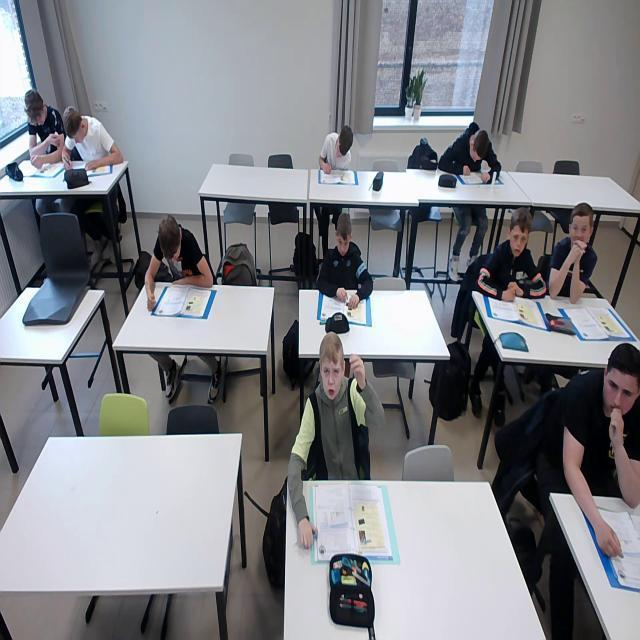Looking forward: (605, 342, 638, 420), (571, 203, 592, 247), (509, 215, 530, 257)
Raising hand: (286, 338, 384, 546)
Reading-writing: (145, 219, 211, 317), (64, 108, 122, 182), (442, 124, 502, 186)
